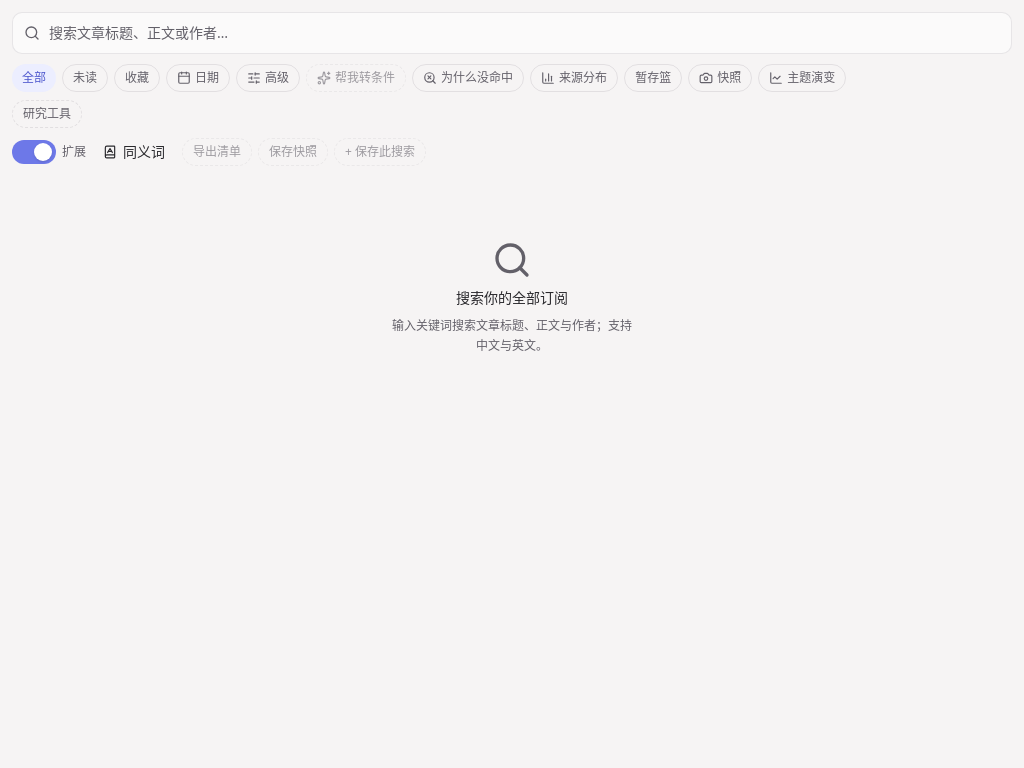
it: N143 为什么没命中（SearchPage） › own-scope 404 → 错误信息原样展示
Step 1. Type "rust" into the search field labelled "搜索" → (512, 33), box [12, 12, 1012, 54]
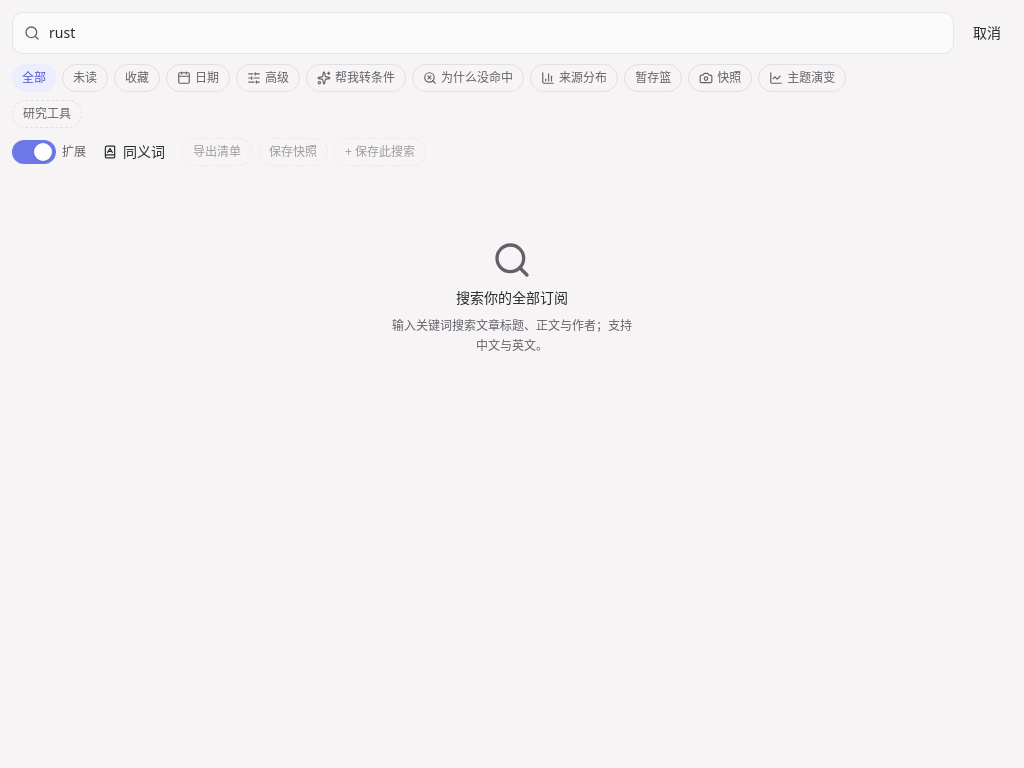
Step 2. Press Enter in the search field named "搜索", box [12, 12, 954, 54]
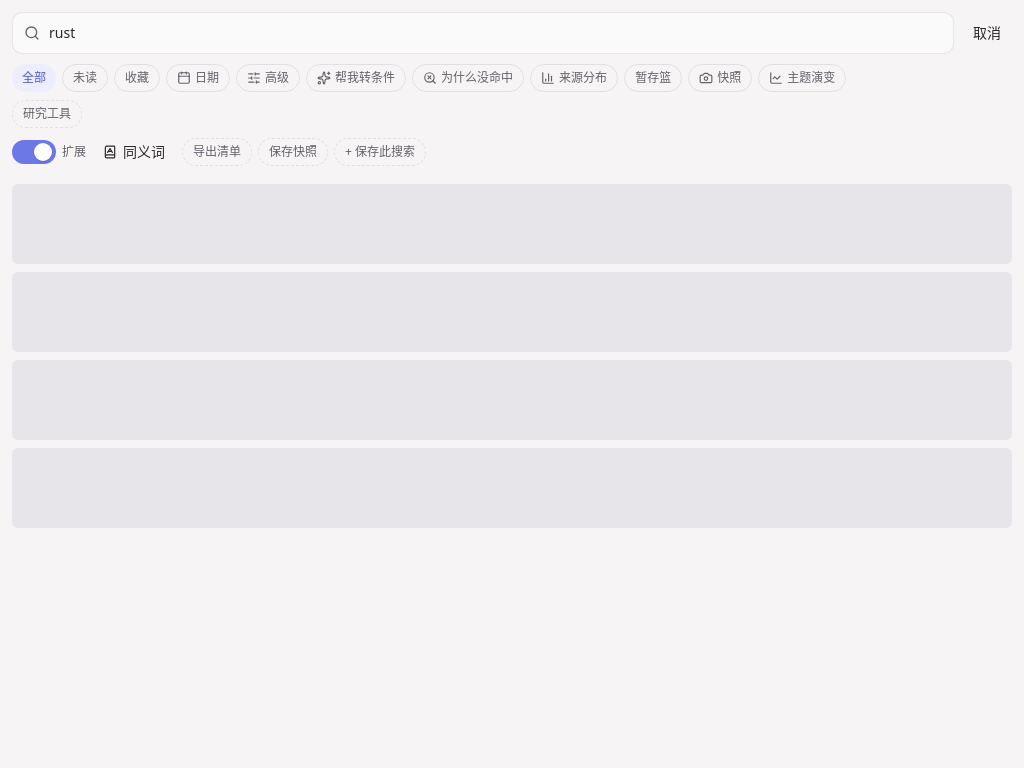
Step 3. Click the button with test id "why-missed-toggle" → (468, 78), box [412, 64, 524, 92]
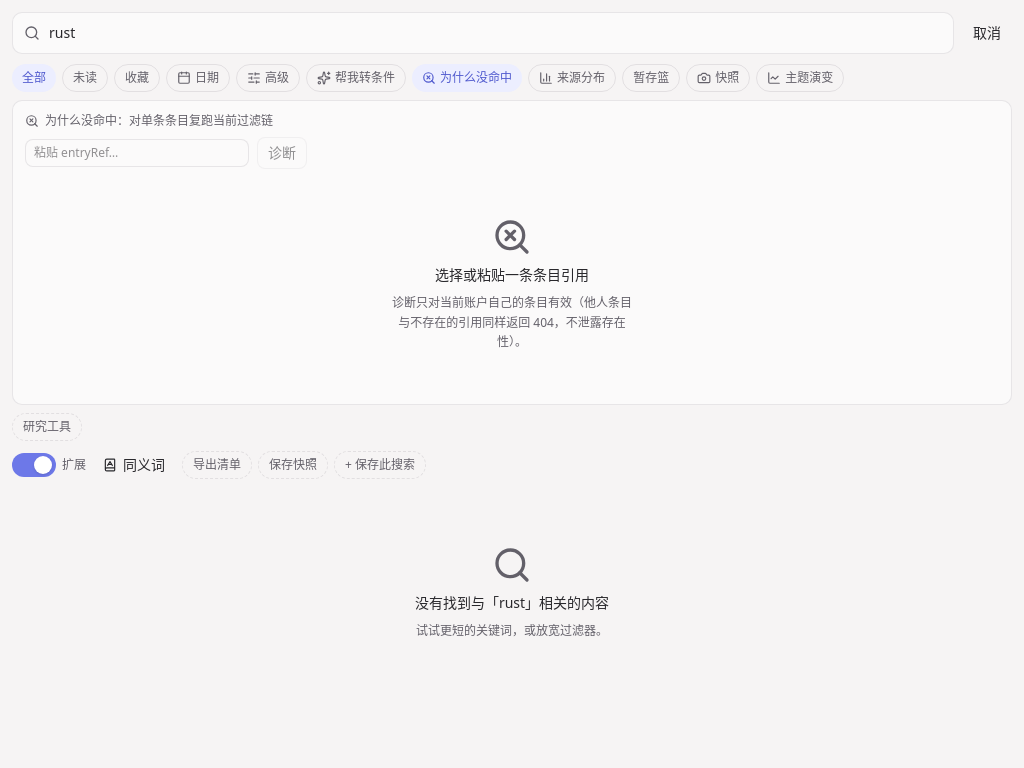
Step 4. Type "foreign" into the field named "条目引用（entryRef）" → (137, 153), box [25, 139, 249, 167]
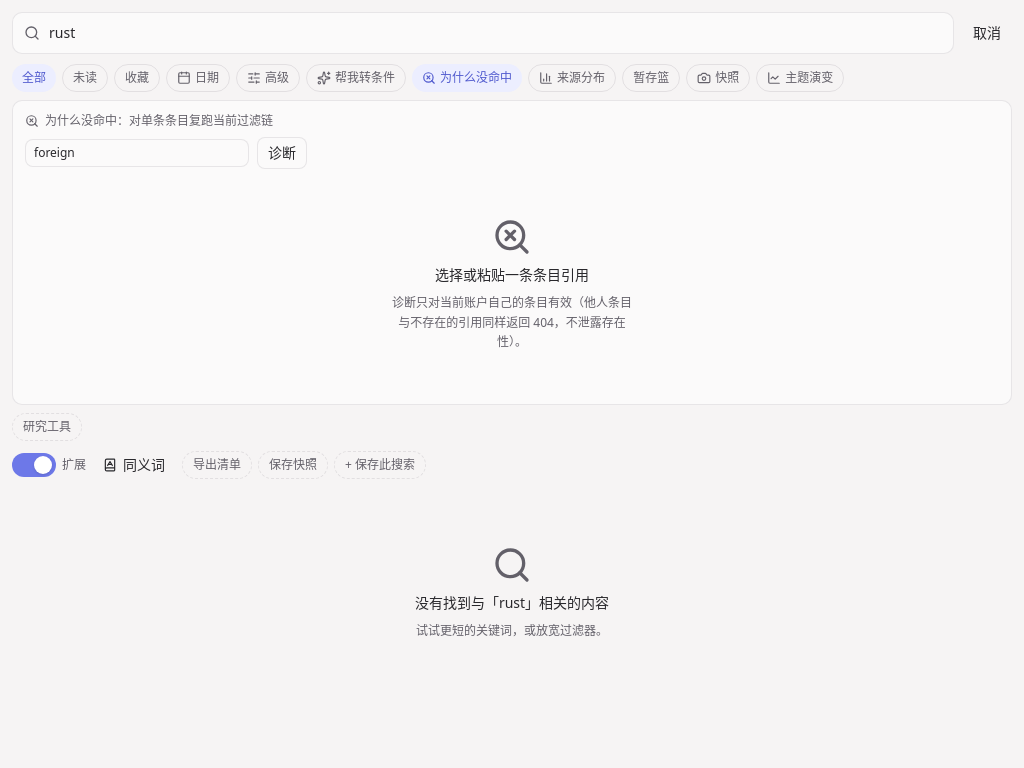
Step 5. Click the button "诊断" → (282, 153), box [257, 137, 307, 169]
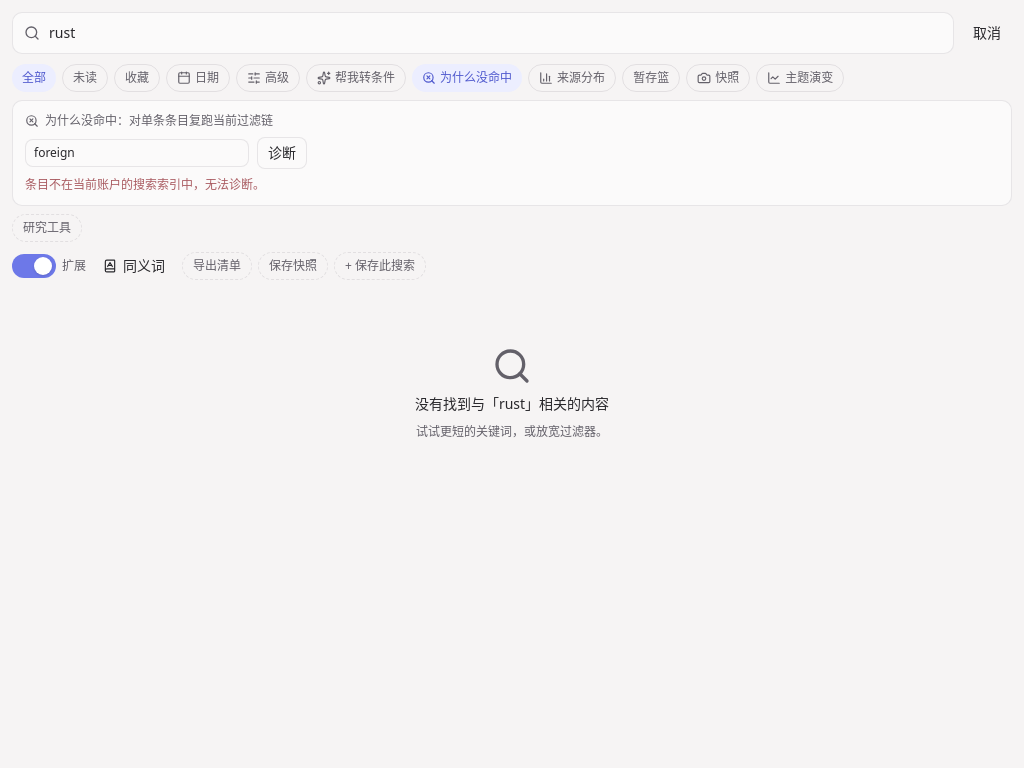
Expected: the message shows "条目不在当前账户的搜索索引中", [25, 176, 265, 193]
